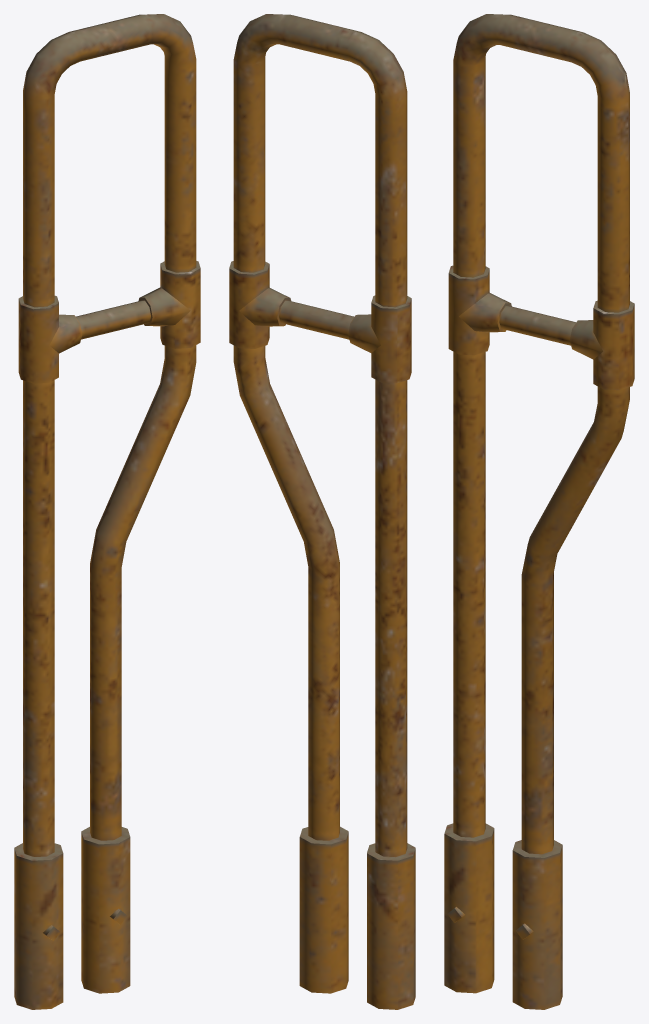
The model's file is Railing01d.fbx.
The picture shows the model from 3 angles, left to right: view 1: azimuth 30°, elevation 25°; view 2: azimuth 150°, elevation 25°; view 3: azimuth 330°, elevation 25°; orthographic projection.
Parts seen in each view (by area): view 1: Railing01d_LOD0; view 2: Railing01d_LOD0; view 3: Railing01d_LOD0.
Part boxes in pixels (<box>): Railing01d_LOD0: <box>14,14,200,1009</box>; Railing01d_LOD0: <box>229,14,415,1009</box>; Railing01d_LOD0: <box>444,14,634,1009</box>.
Size of what is drawn, in the model's own units: 25.54 by 129 by 6.66.
